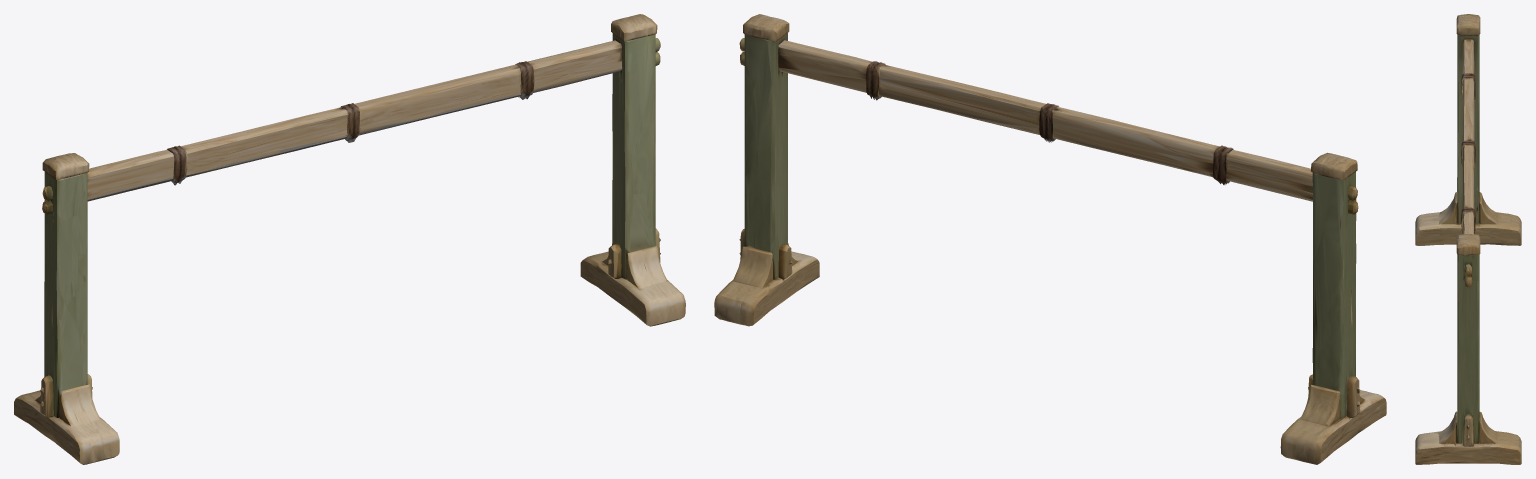
File: bell_support.glb
3 renders of one model, left to right at view 1: azimuth 30°, elevation 25°; view 2: azimuth 150°, elevation 25°; view 3: azimuth 270°, elevation 25°, orthographic. The views are drawn at different scales.
Parts seen in each view (by area): view 1: Tripo two-post bell frame; view 2: Tripo two-post bell frame; view 3: Tripo two-post bell frame.
Boxes of the visible parts, left/top/right/bottom form: Tripo two-post bell frame: left=14, top=14, right=685, bottom=464; Tripo two-post bell frame: left=714, top=14, right=1386, bottom=464; Tripo two-post bell frame: left=1415, top=14, right=1521, bottom=464.
Size of the model in its own units: 3.3 by 1.42 by 0.6196.
Materials: 1 (1 with a texture image).
